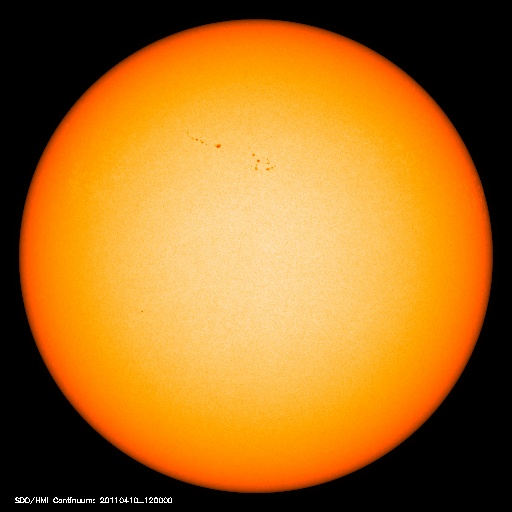sunspot: (171, 123, 282, 177)
